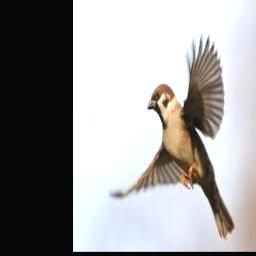Sparrow: (108, 32, 235, 239)
